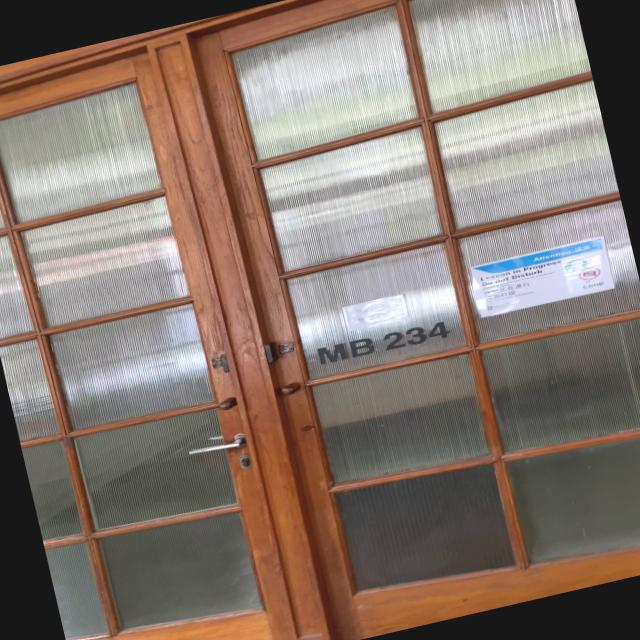room234Window: (304, 308, 458, 374)
